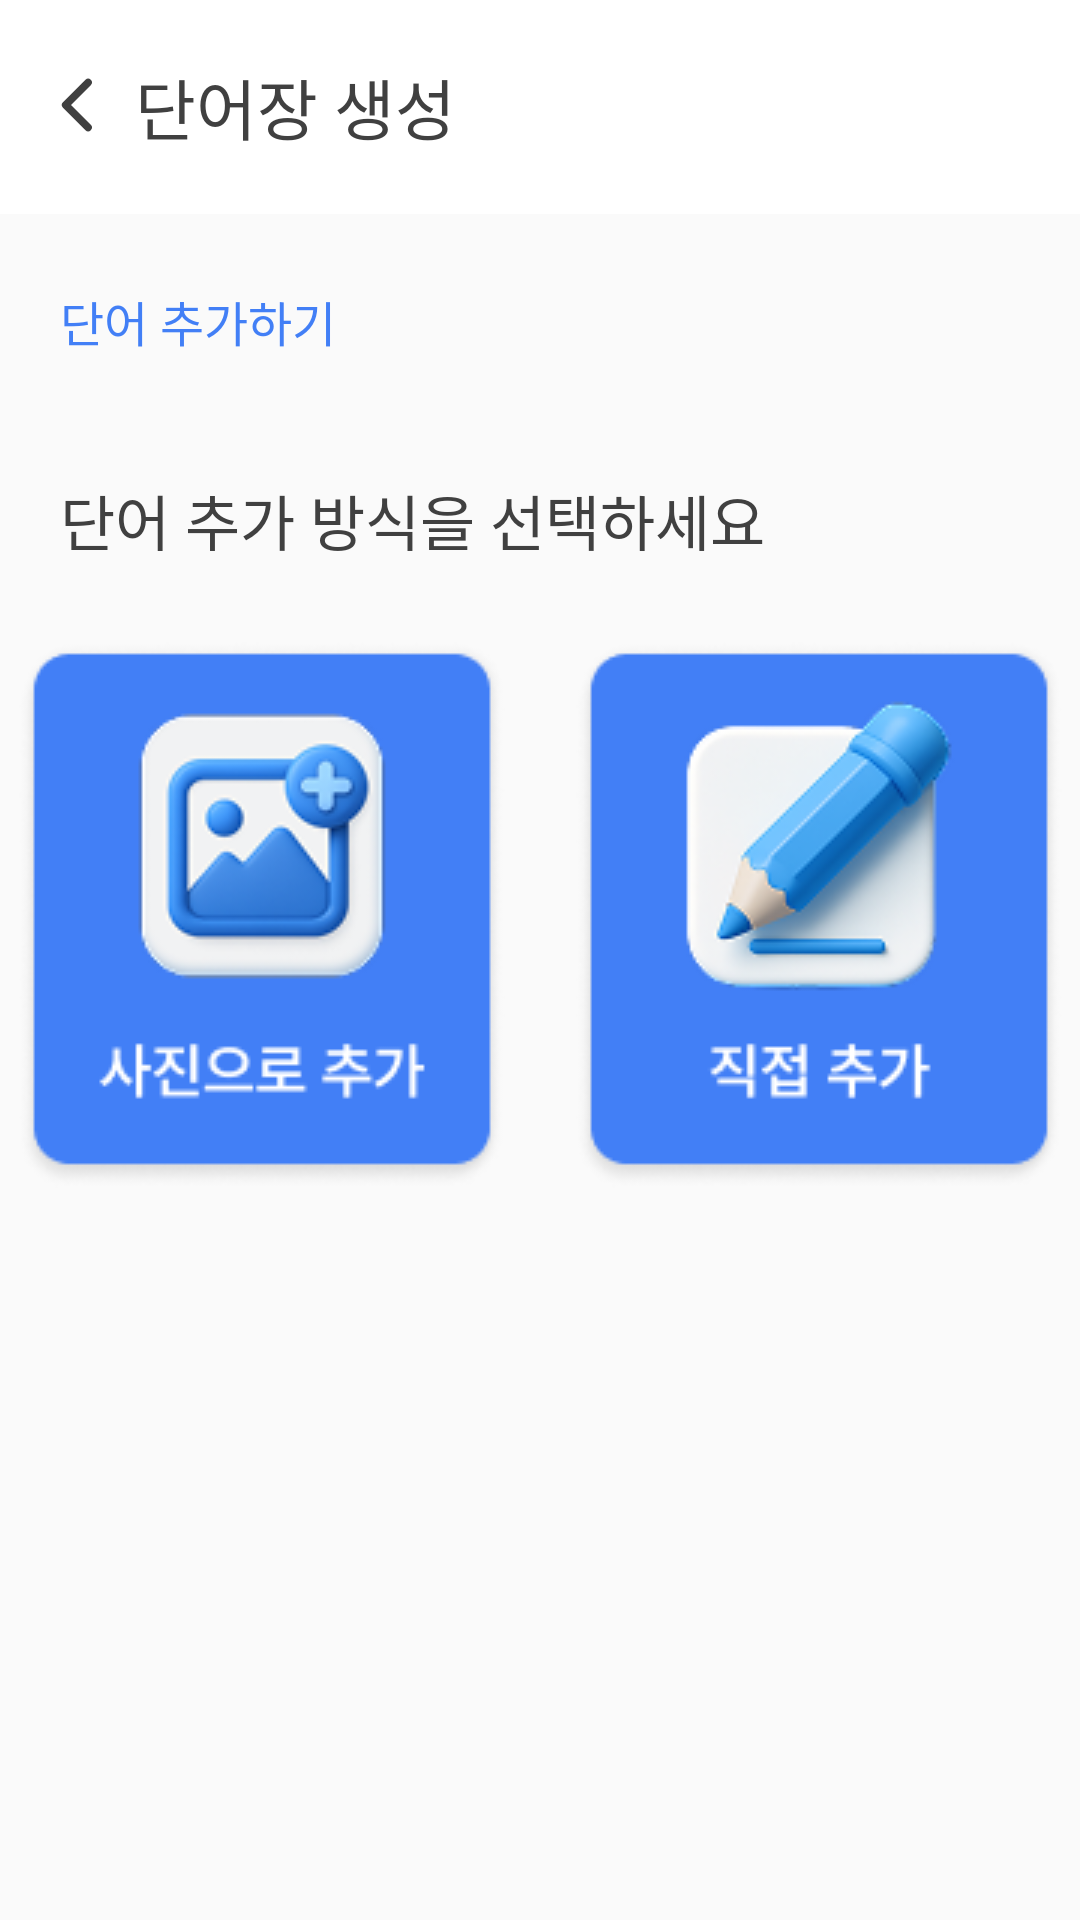

Named icons in this screenshot (1080w x 1920h) and their bounding boxes, (x1, y1, x2, y2):
back: (61, 78, 92, 132)
